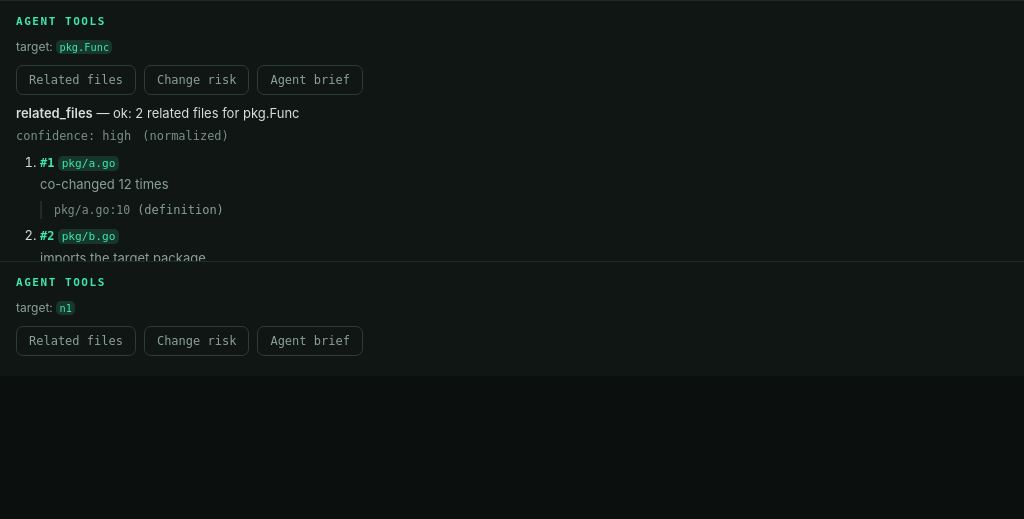
Test: AgentToolsPanel › Change risk → heuristic confidence is visibly marked with the data-tier convention
Click the button "Change risk" below "n1" at coordinates (197, 341), box [144,326,249,356]
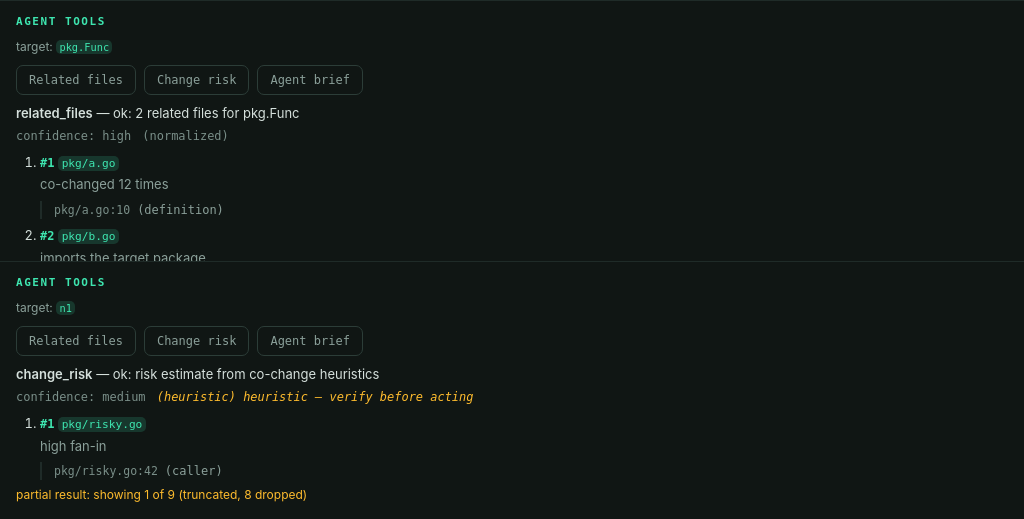
Check: the text "heuristic — verify before acting" is shown, box [236,390,473,404]
Check: the text "showing 1 of 9 (truncated, 8 dropped)" is shown, box [16,488,307,502]
